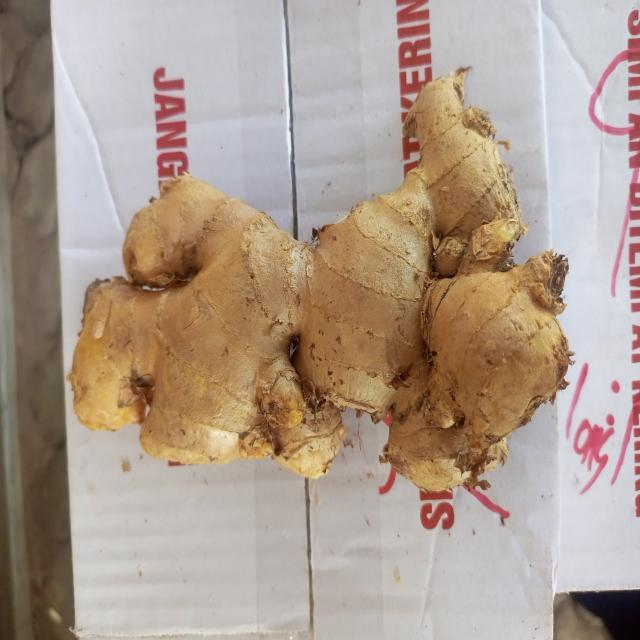ginger: (89, 91, 552, 492)
